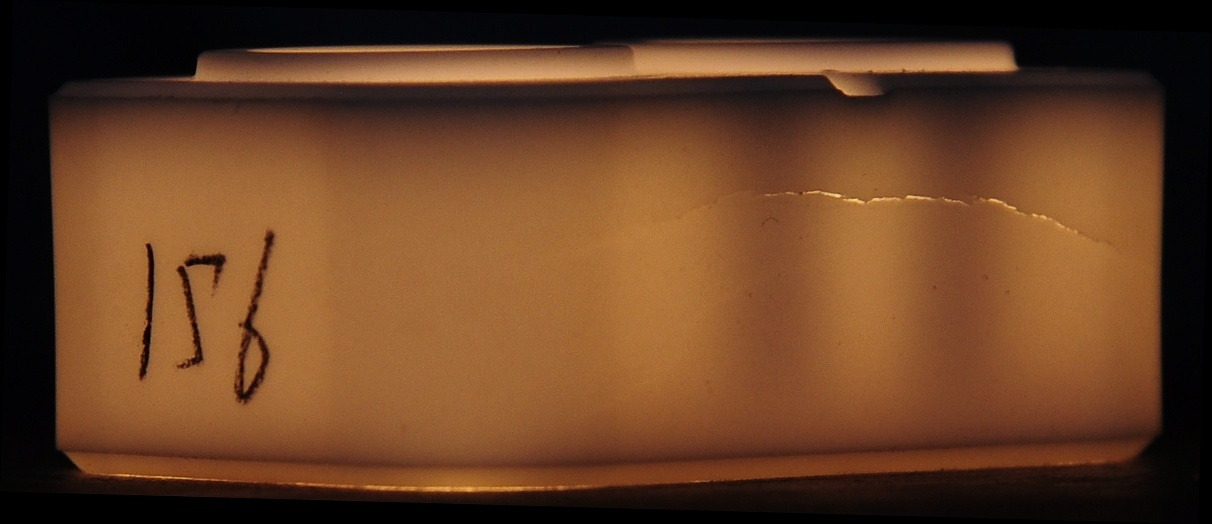flaw: (590, 172, 1144, 272)
